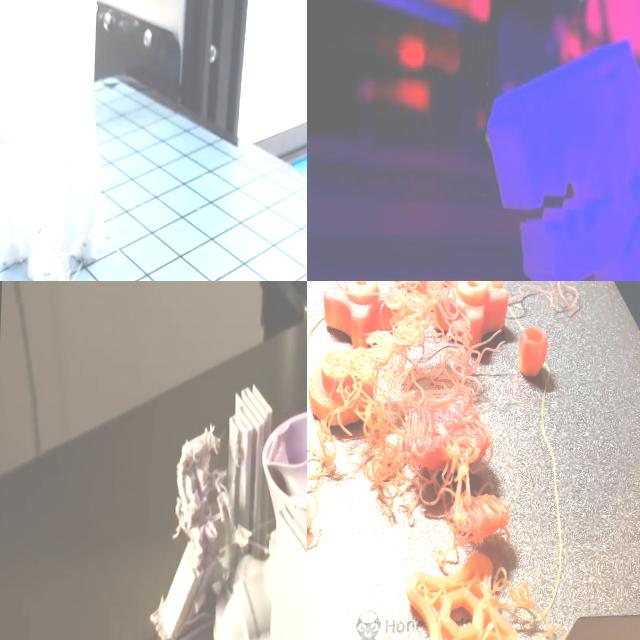spaghetti: (342, 281, 444, 538), (443, 281, 508, 392), (480, 567, 577, 640), (520, 281, 588, 318), (307, 408, 337, 489), (307, 501, 322, 542)
